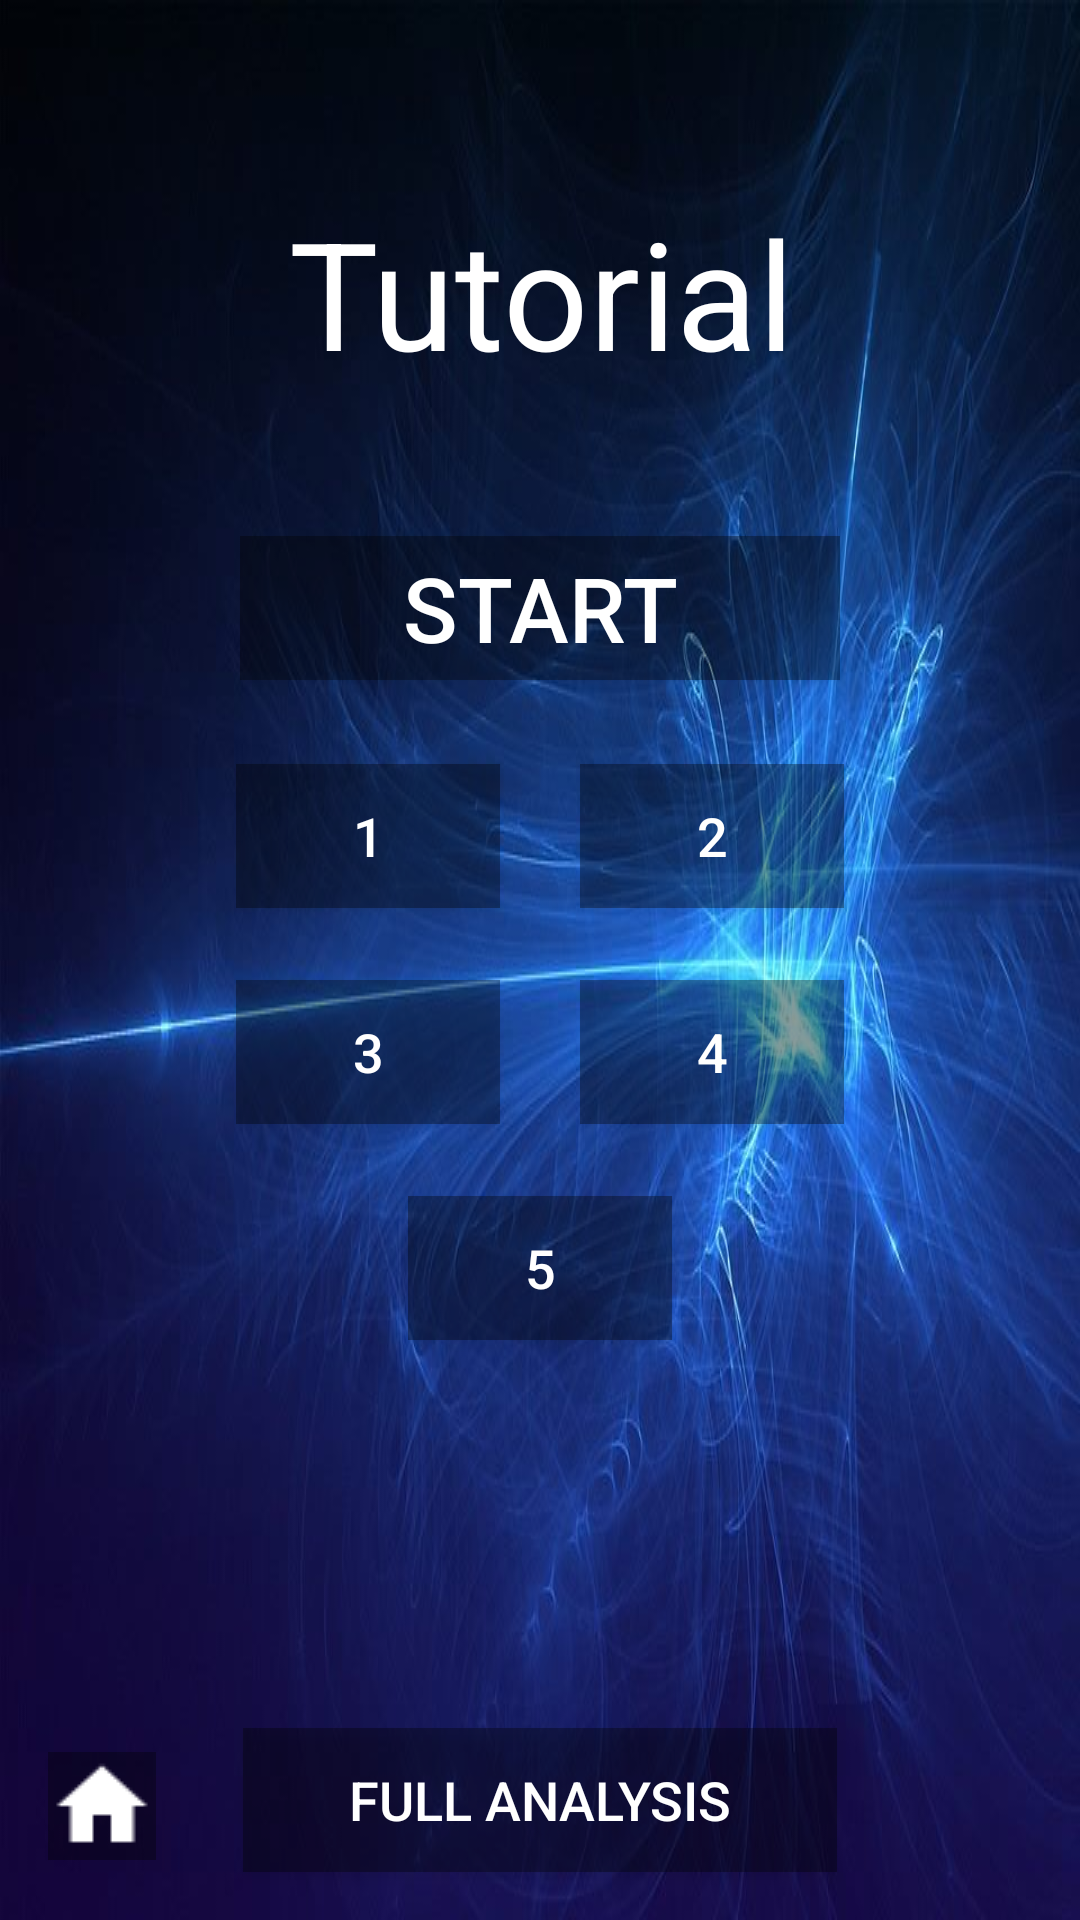

Where to tap for icons on this 1080x1920 app screen, as (x,y):
home: (102,1804)
